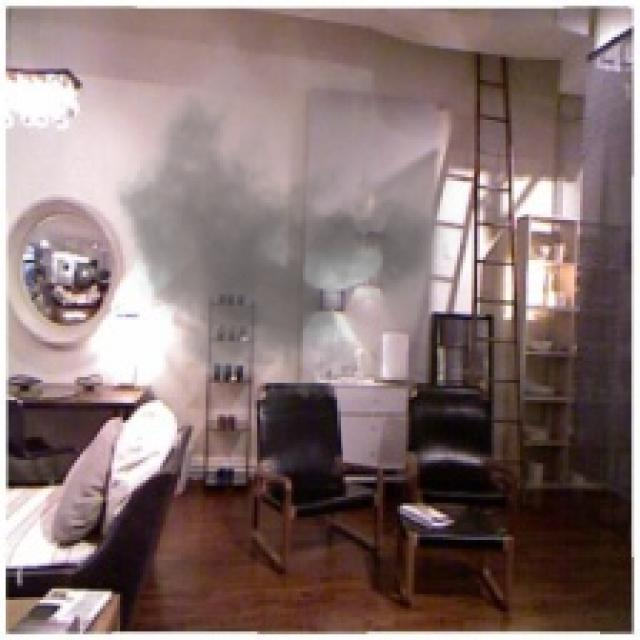Smoke: (88, 20, 474, 420)
